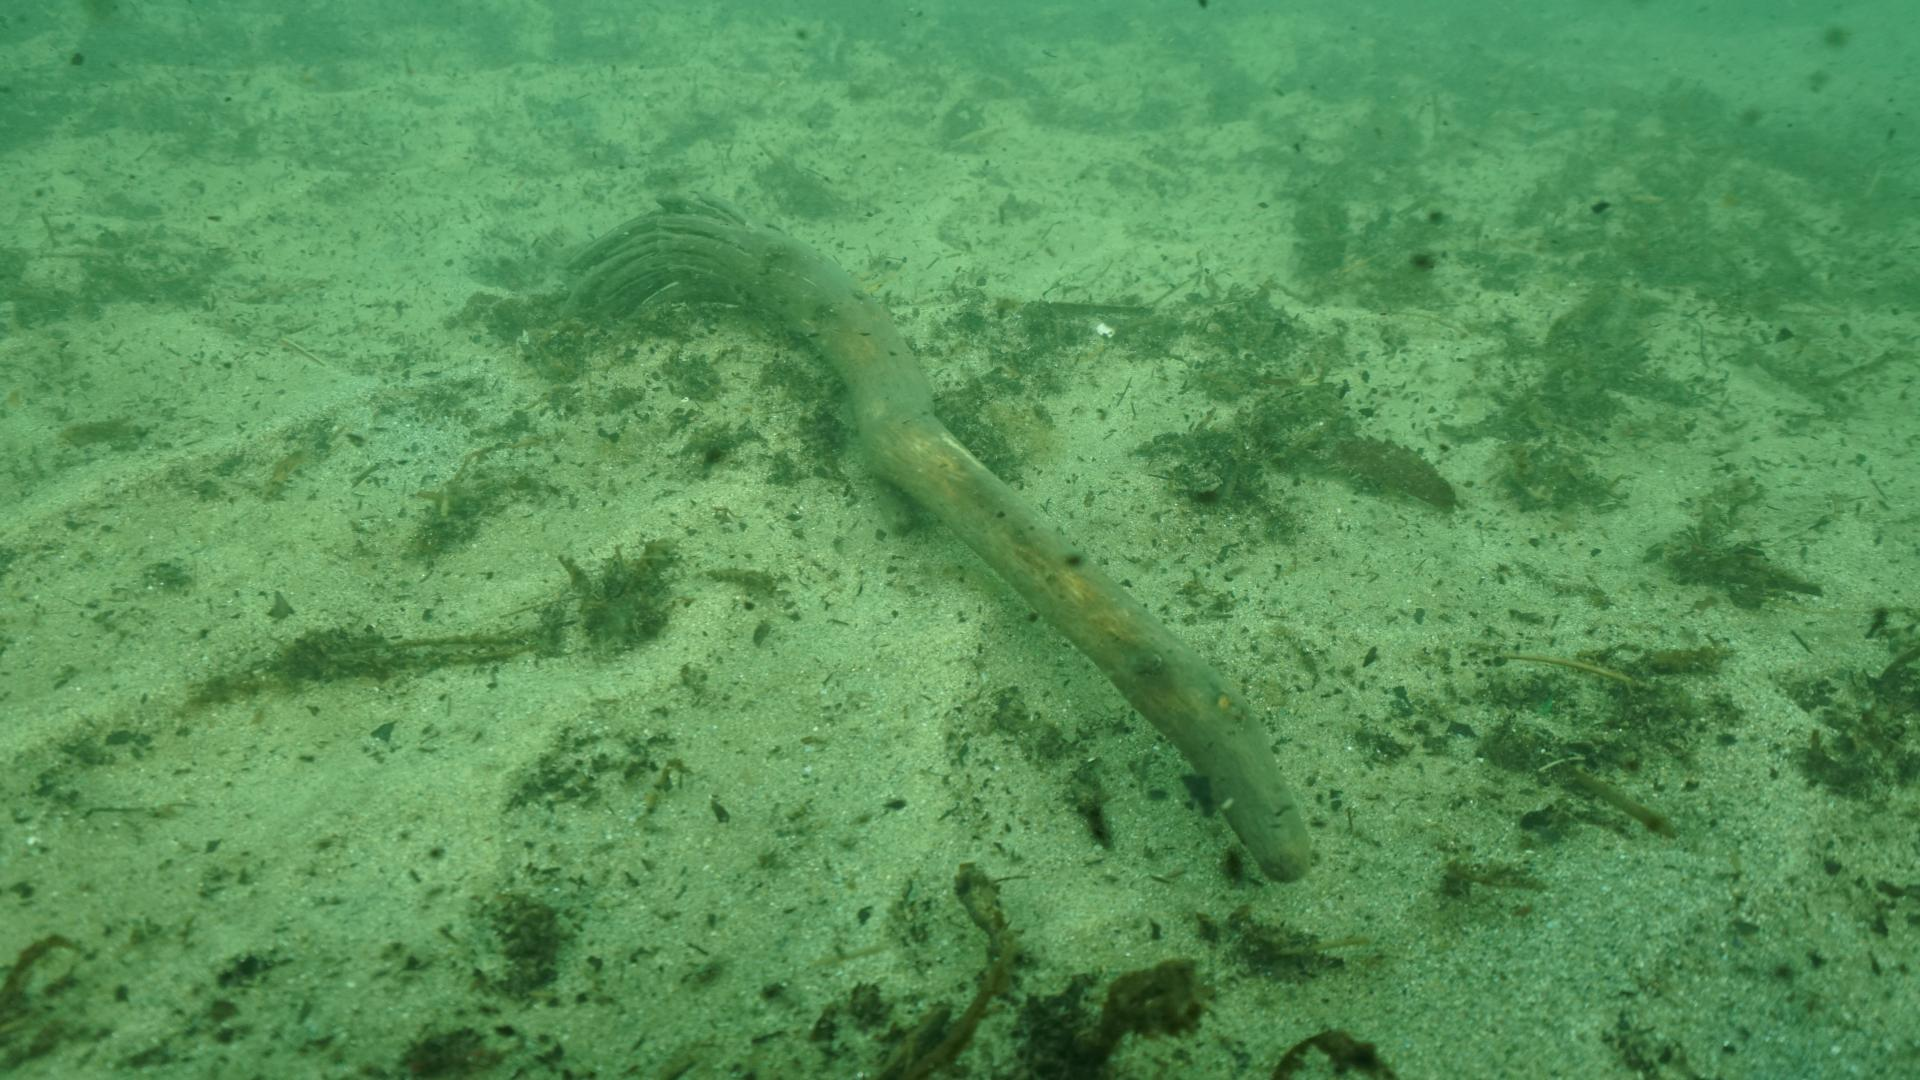wood: (563, 189, 1315, 884)
